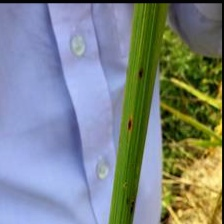Bacterial_Leaf_Blight: (126, 189, 137, 212), (125, 110, 136, 132), (137, 63, 142, 77)
